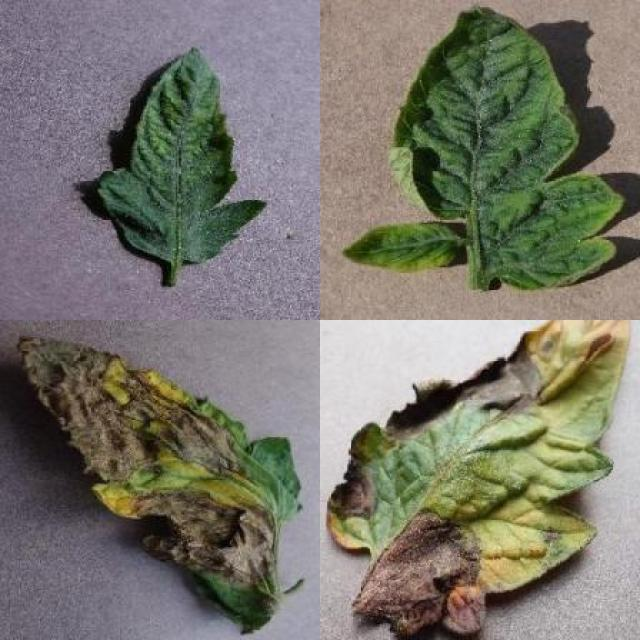Late Blight: (320, 320, 630, 640), (18, 330, 305, 640)
Mosaic Virus: (96, 48, 270, 266)
Yellow Leaf Curl Virus: (390, 4, 626, 290), (344, 222, 462, 272)
